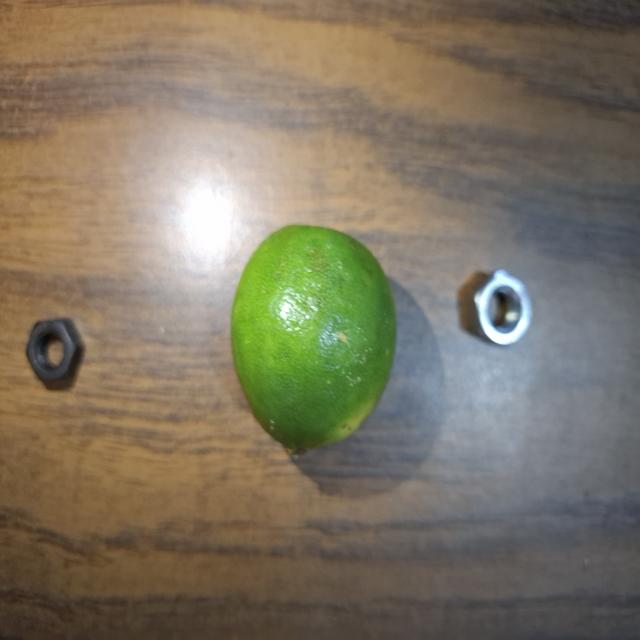limon: (224, 221, 400, 466)
milimetrico: (19, 314, 96, 398)
tuerca: (468, 270, 543, 357)
